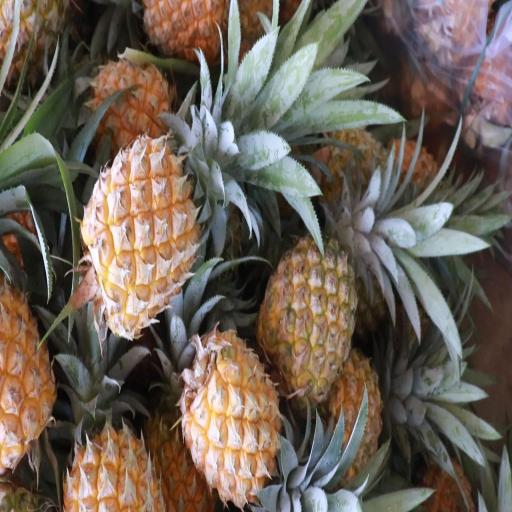------------------------------: (262, 242, 354, 402)
Pineapple - v8 v1: (87, 141, 198, 333), (181, 338, 280, 503), (62, 375, 160, 512), (147, 378, 216, 512), (87, 61, 174, 148)
